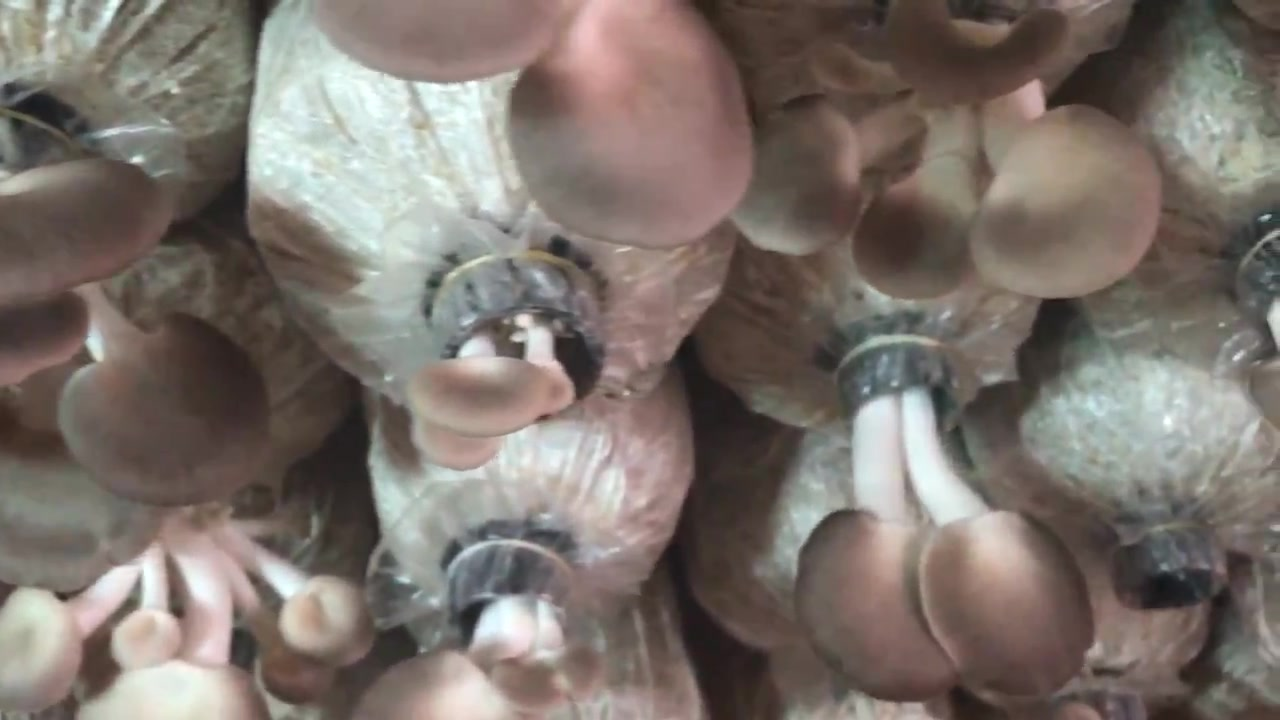nam: (315, 1, 1168, 302), (795, 328, 1093, 703), (1, 95, 271, 502), (1, 505, 377, 717), (364, 539, 605, 720), (414, 253, 613, 468)
